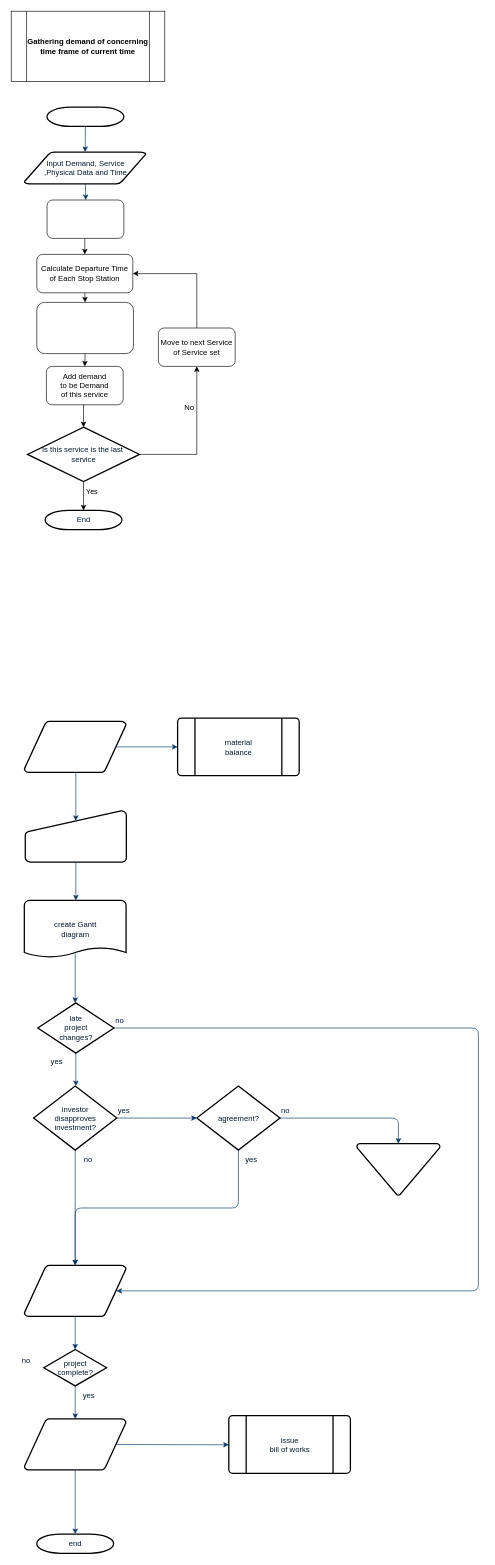
The diagram is 495 pixels wide and 1565 high, and some of its shapes have lost their labels. Here are the shapes that lost their labels. From the top down, the centre of each, then its label:
the point at 85,116: start
the point at 85,218: Select first Service
the point at 84,328: Read demand and match demand that have the same time to Departure Time
the point at 74,746: order material
the point at 75,836: organize workforce
the point at 398,1169: terminate contract
the point at 74,1290: create status report
the point at 74,1444: create final report
